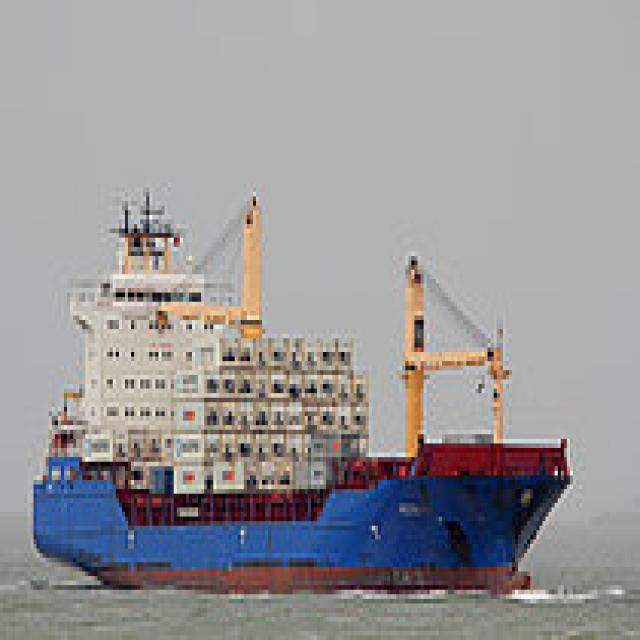Ship: (28, 180, 580, 605)
